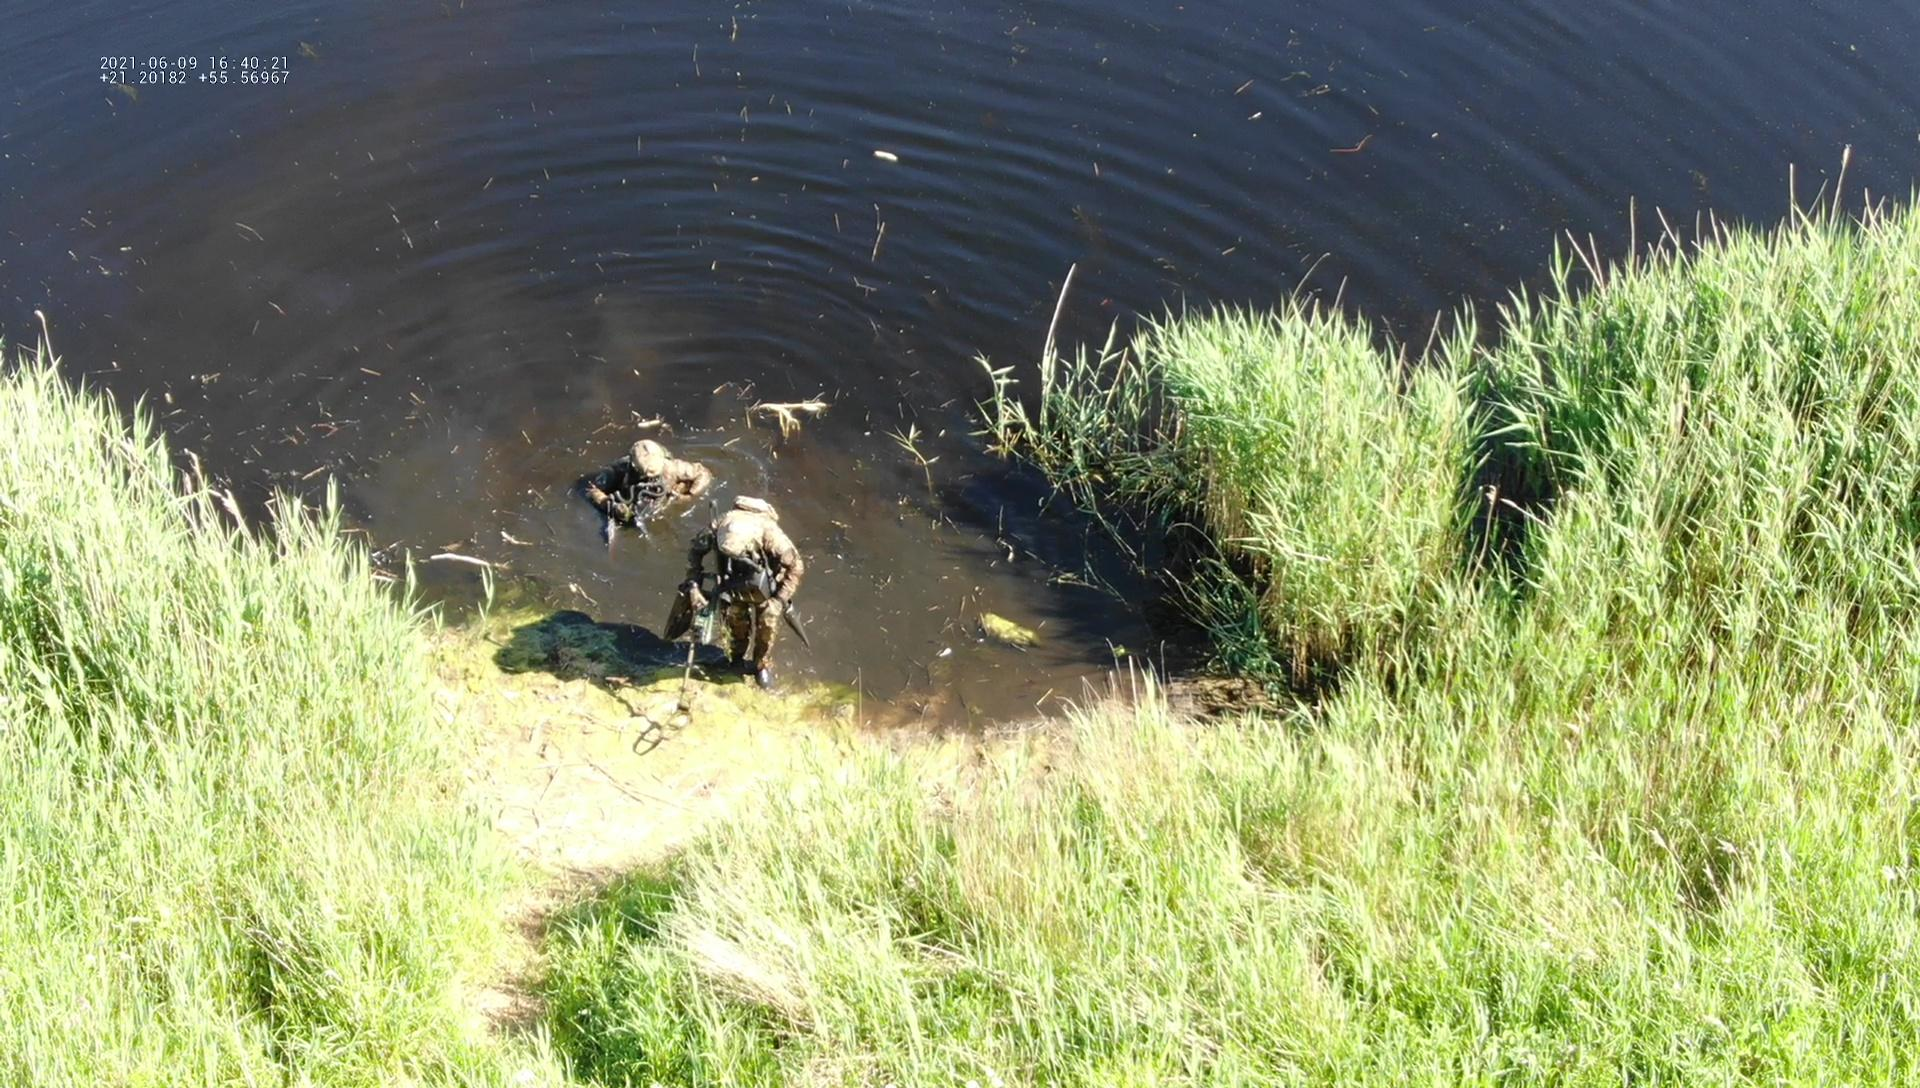Soldier: (662, 495, 804, 729), (578, 434, 711, 543)
